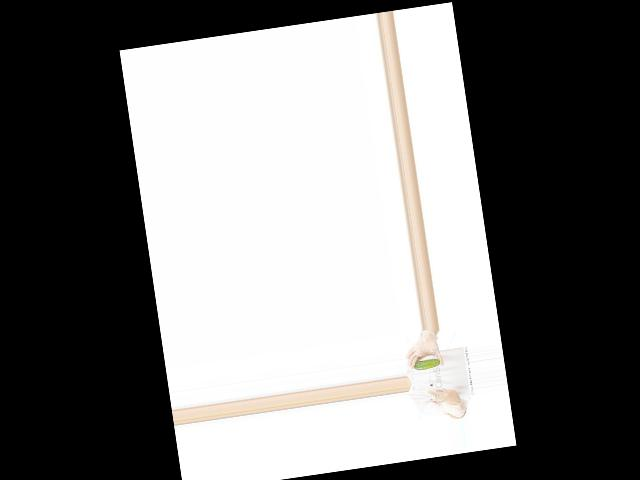cucumber: (413, 357, 441, 370)
